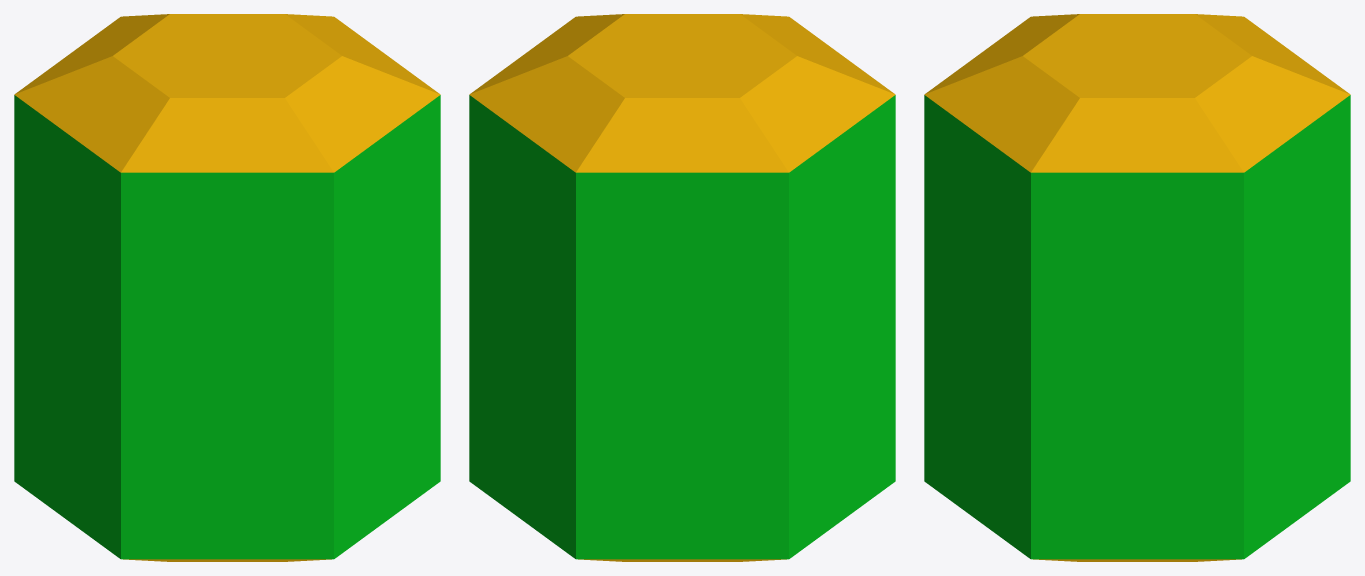
Rendered from ScoreBonus.dae.
3 views of the same model, side by side, from view 1: azimuth 30°, elevation 25°; view 2: azimuth 150°, elevation 25°; view 3: azimuth 270°, elevation 25° (orthographic).
Parts seen in each view (by area): view 1: Cylinder; view 2: Cylinder; view 3: Cylinder.
Part boxes in pixels (x1,y1,x2,y2): Cylinder: (14,14,440,561); Cylinder: (469,14,895,561); Cylinder: (924,14,1350,561).
Size of the model in its own units: 0.433 by 0.5 by 0.6.
